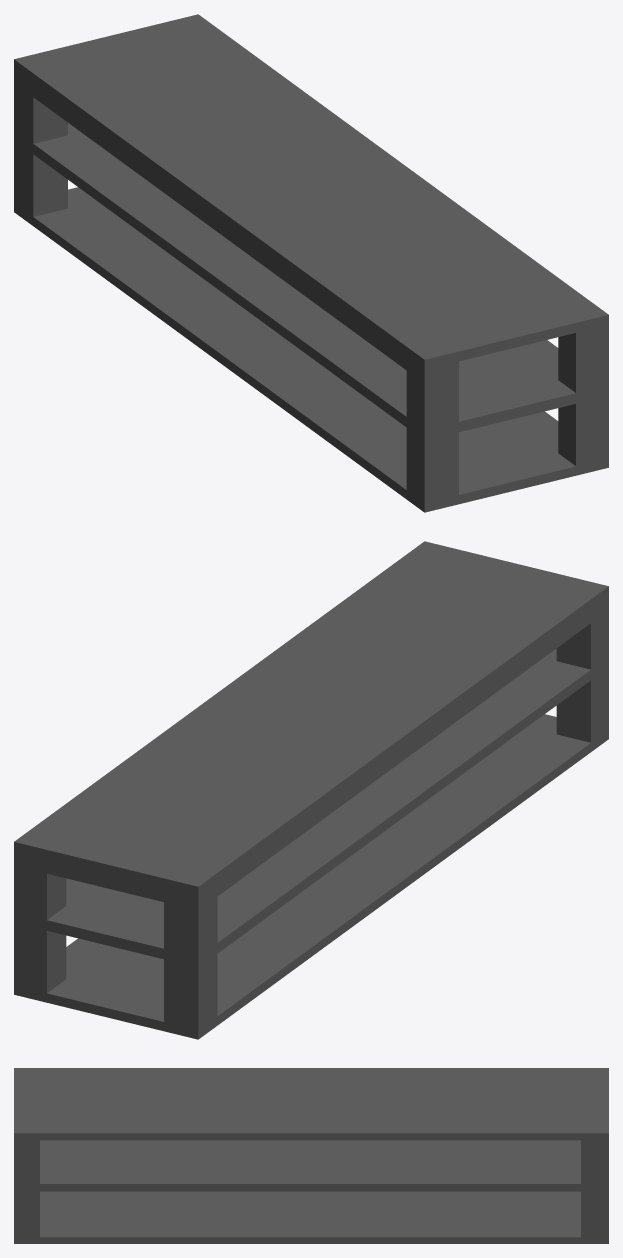
Rendered from Long Counter.fbx.
3 renders of one model, top to bottom at view 1: azimuth 30°, elevation 25°; view 2: azimuth 150°, elevation 25°; view 3: azimuth 270°, elevation 25°, orthographic. The views are drawn at different scales.
Parts seen in each view (by area): view 1: Long Counter; view 2: Long Counter; view 3: Long Counter.
Boxes of the visible parts, left/top/right/bottom form: Long Counter: left=14, top=14, right=608, bottom=512; Long Counter: left=14, top=541, right=608, bottom=1039; Long Counter: left=14, top=1068, right=608, bottom=1243.
Size of the model in its own units: 63.92 by 50.65 by 247.
